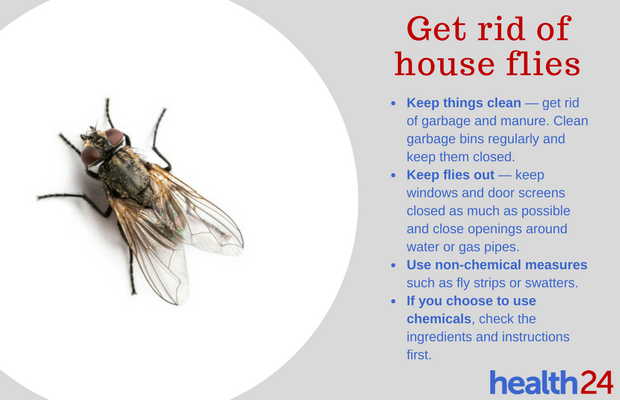house fly: (33, 93, 252, 322)
